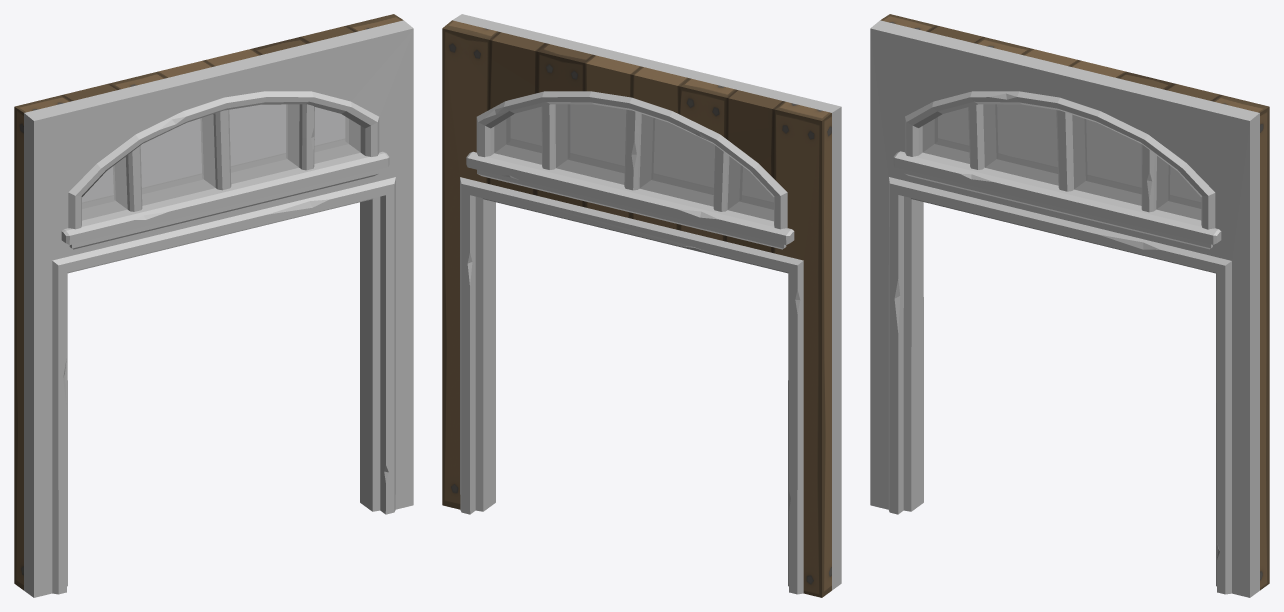
Rendered from SM_Bld_Deco_Wall_Door_Double_02.fbx.
The picture shows the model from 3 angles, left to right: view 1: azimuth 30°, elevation 25°; view 2: azimuth 150°, elevation 25°; view 3: azimuth 330°, elevation 25°; orthographic projection.
Parts seen in each view (by area): view 1: SM_Bld_Deco_Wall_Door_Double_02, SM_Bld_Deco_Wall_Door_Double_02_Glass; view 2: SM_Bld_Deco_Wall_Door_Double_02, SM_Bld_Deco_Wall_Door_Double_02_Glass; view 3: SM_Bld_Deco_Wall_Door_Double_02, SM_Bld_Deco_Wall_Door_Double_02_Glass.
Boxes of the visible parts, x1=… form: SM_Bld_Deco_Wall_Door_Double_02: x1=14, y1=14, x2=413, y2=597; SM_Bld_Deco_Wall_Door_Double_02_Glass: x1=82, y1=104, x2=360, y2=220; SM_Bld_Deco_Wall_Door_Double_02: x1=442, y1=14, x2=841, y2=597; SM_Bld_Deco_Wall_Door_Double_02_Glass: x1=494, y1=104, x2=773, y2=221; SM_Bld_Deco_Wall_Door_Double_02: x1=870, y1=14, x2=1269, y2=597; SM_Bld_Deco_Wall_Door_Double_02_Glass: x1=922, y1=104, x2=1201, y2=220.
Size of the model in its own units: 250 by 301 by 35.41.
